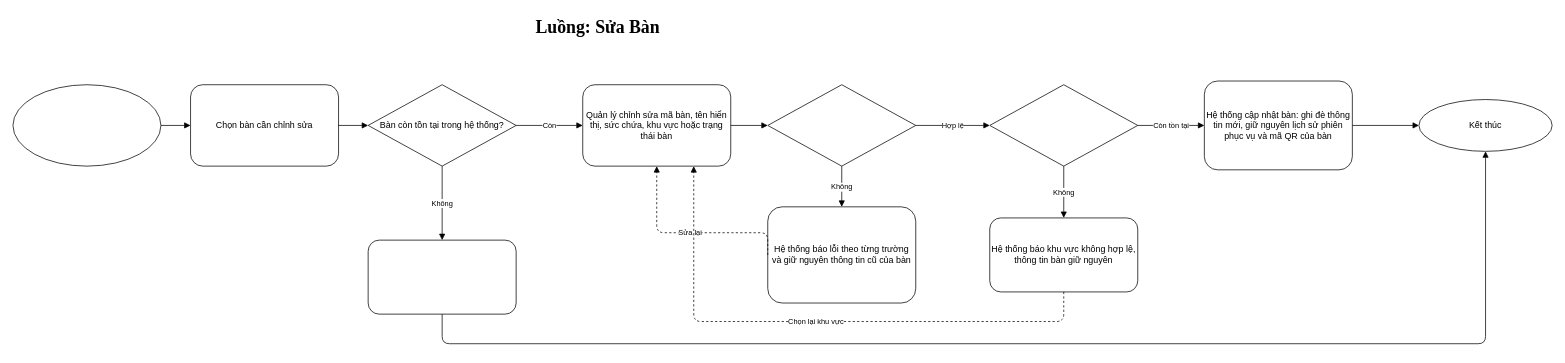
Image size: 1565x363. Some labels were removed from this diagram. The centre of each missing label's shape, as x and y in pixels:
"Dữ liệu hợp lệ và mã bàn không trùng bàn khác?" belongs at point 841,125.
"Hệ thống báo bàn không tồn tại hoặc đã bị xóa" belongs at point 441,276.
"Khu vực được gán còn tồn tại?" belongs at point 1063,125.
"Quản lý mở màn hình sơ đồ bàn và khu vực" belongs at point 86,125.
